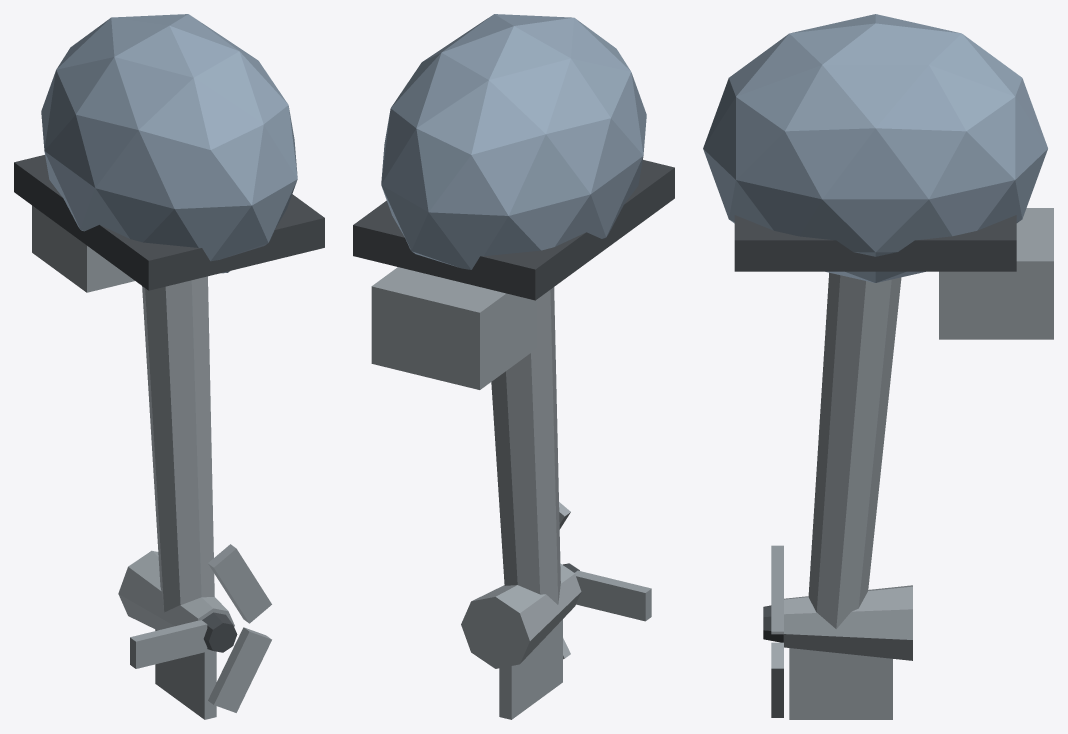
The model's file is MediumMotor.fbx.
The picture shows the model from 3 angles, left to right: view 1: azimuth 30°, elevation 25°; view 2: azimuth 150°, elevation 25°; view 3: azimuth 270°, elevation 25°; orthographic projection. The views are drawn at different scales.
Visible parts, largest first — view 1: EngineCover, Shaft, CoverBand, TransomClamp, GearHousing, Skeg, Blade.001, Blade, Blade.002, PropHub; view 2: EngineCover, Shaft, TransomClamp, CoverBand, GearHousing, Skeg, Blade; view 3: EngineCover, Shaft, TransomClamp, CoverBand, Skeg, GearHousing, Blade.002, Blade.001.
Boxes of the visible parts, x1=… form: EngineCover: x1=41, y1=14, x2=297, y2=273; Shaft: x1=142, y1=276, x2=214, y2=612; CoverBand: x1=14, y1=155, x2=324, y2=290; TransomClamp: x1=32, y1=205, x2=134, y2=292; GearHousing: x1=118, y1=550, x2=234, y2=653; Skeg: x1=155, y1=629, x2=216, y2=719; Blade.001: x1=208, y1=627, x2=271, y2=712; Blade: x1=130, y1=620, x2=207, y2=668; Blade.002: x1=208, y1=544, x2=271, y2=623; PropHub: x1=202, y1=612, x2=237, y2=652; EngineCover: x1=381, y1=14, x2=646, y2=269; Shaft: x1=491, y1=287, x2=560, y2=604; TransomClamp: x1=371, y1=267, x2=536, y2=389; CoverBand: x1=353, y1=160, x2=674, y2=300; GearHousing: x1=461, y1=563, x2=581, y2=668; Skeg: x1=499, y1=619, x2=562, y2=719; Blade: x1=575, y1=570, x2=651, y2=621; EngineCover: x1=703, y1=14, x2=1047, y2=282; Shaft: x1=808, y1=272, x2=901, y2=628; TransomClamp: x1=939, y1=208, x2=1053, y2=339; CoverBand: x1=734, y1=215, x2=1016, y2=271; Skeg: x1=789, y1=648, x2=892, y2=719; GearHousing: x1=783, y1=585, x2=912, y2=660; Blade.002: x1=771, y1=545, x2=783, y2=634; Blade.001: x1=771, y1=642, x2=783, y2=717.
Bounding box in the file's own units: 0.4185 × 1.33 × 0.61.
